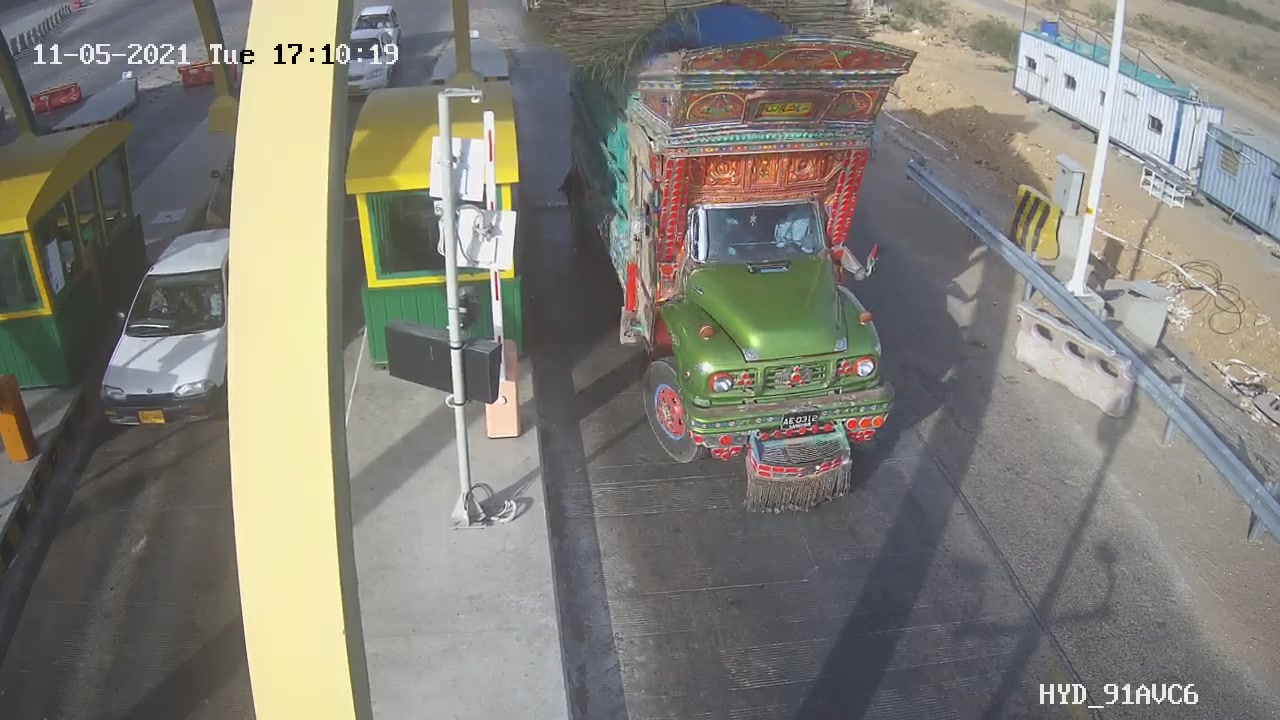F5: (542, 4, 948, 534)
